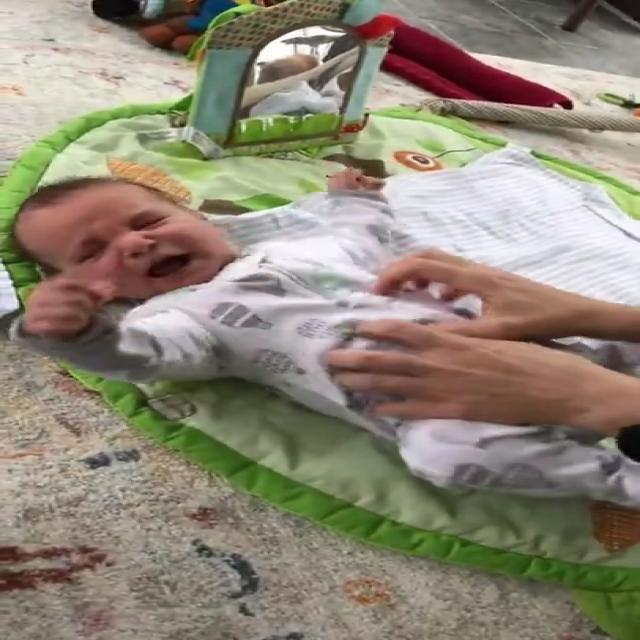baby: (0, 163, 640, 514)
